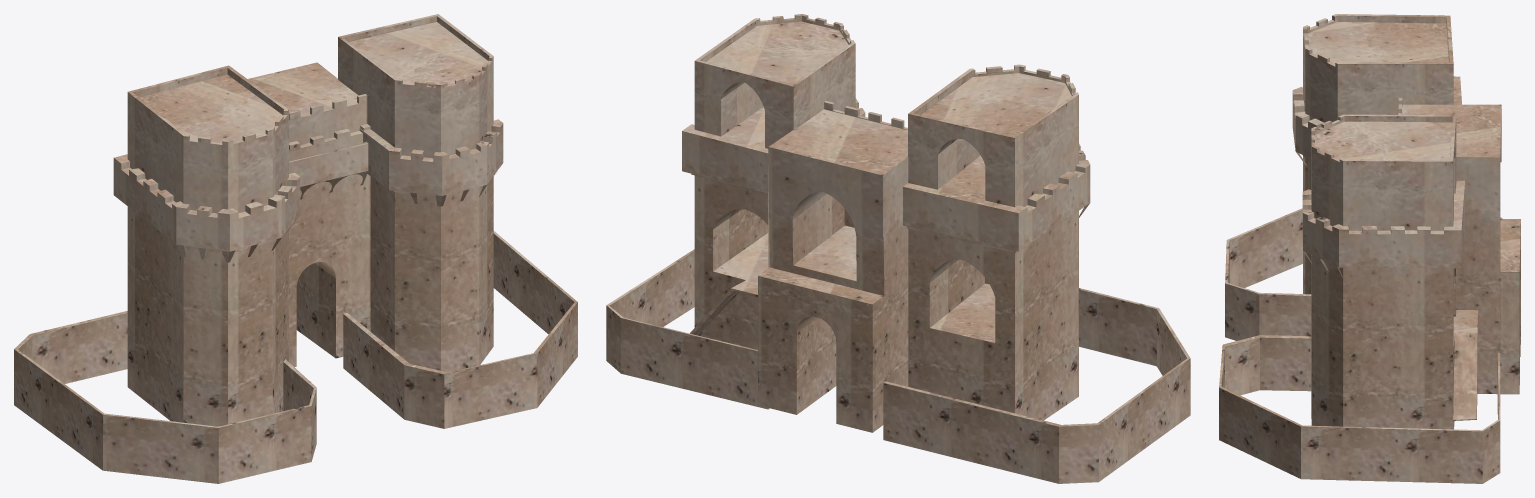
Rendered from PIIE_AR_MO007_SERRANOS 1.fbx.
3 renders of one model, left to right at view 1: azimuth 30°, elevation 25°; view 2: azimuth 150°, elevation 25°; view 3: azimuth 270°, elevation 25°, orthographic. The views are drawn at different scales.
Visible parts, largest first — view 1: PIIE_AR_MO007_LOW; view 2: PIIE_AR_MO007_LOW; view 3: PIIE_AR_MO007_LOW.
Part boxes in pixels (bbox=[...]): PIIE_AR_MO007_LOW: bbox=[14, 14, 577, 483]; PIIE_AR_MO007_LOW: bbox=[606, 14, 1190, 483]; PIIE_AR_MO007_LOW: bbox=[1219, 14, 1520, 483].
Size of the model in its own units: 19.34 by 11.59 by 10.9.
Materials: 1 (1 with a texture image).
